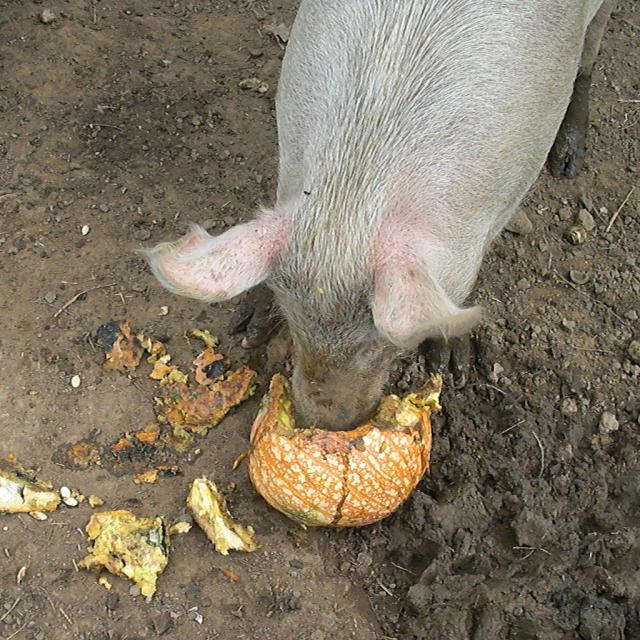Pig: (120, 0, 618, 432)
